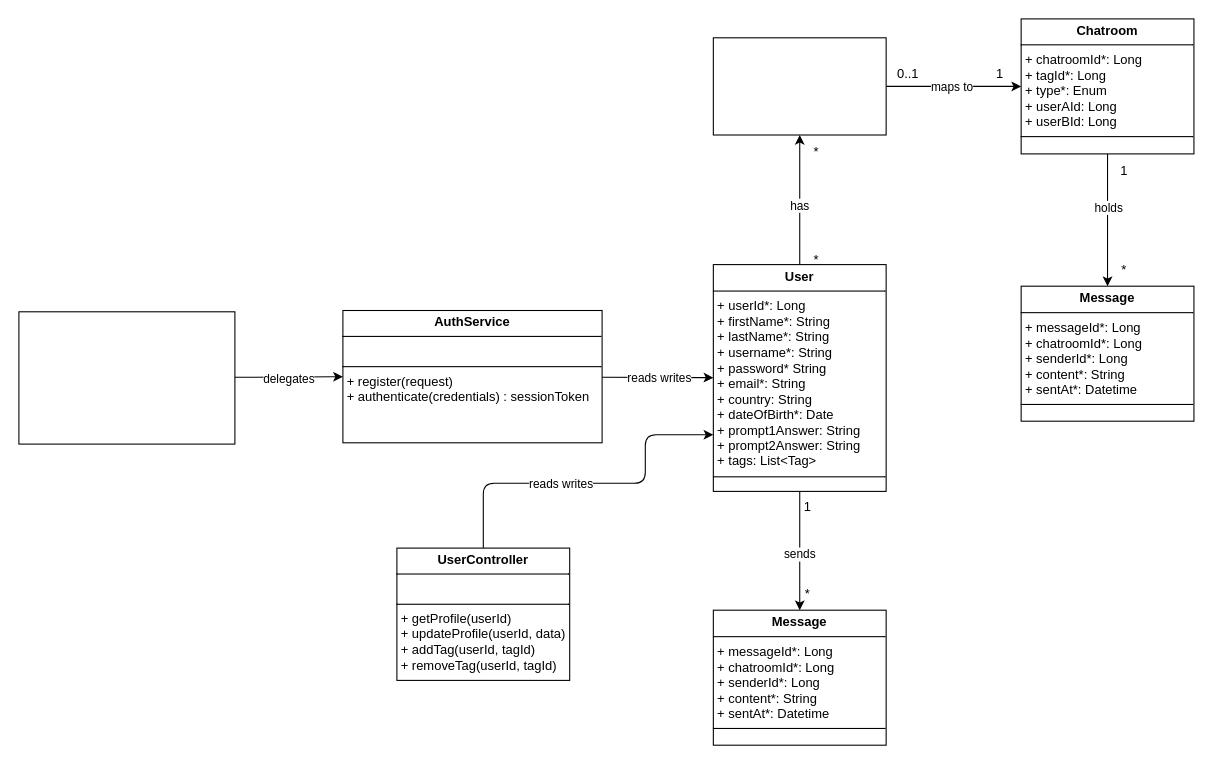
The diagram is 1213 pixels wide and 765 high, and some of its shapes have lost their labels. The centre of each missing label's shape, as x and y in pixels:
"AuthController + register(request) + login(credentials) : sessionToken" goes at (126,377).
"Tag + tagId*: Long + name*: String" goes at (799,86).
